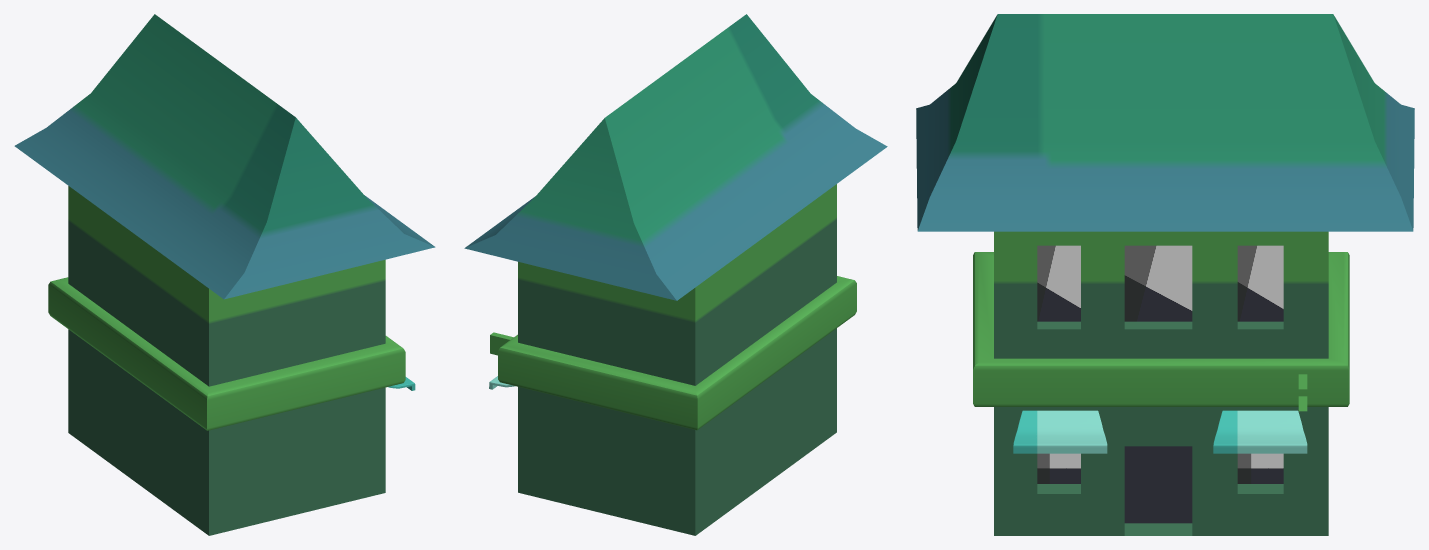
Rendered from BuildingShort_02A.fbx.
3 renders of one model, left to right at view 1: azimuth 30°, elevation 25°; view 2: azimuth 150°, elevation 25°; view 3: azimuth 270°, elevation 25°, orthographic. The views are drawn at different scales.
Parts seen in each view (by area): view 1: polySurface1059; view 2: polySurface1059; view 3: polySurface1059.
Part boxes in pixels (x1=…): polySurface1059: x1=14, y1=14, x2=435, y2=535; polySurface1059: x1=464, y1=14, x2=887, y2=535; polySurface1059: x1=916, y1=14, x2=1414, y2=535.
Size of the model in its own units: 3.96 by 6.46 by 6.2.
